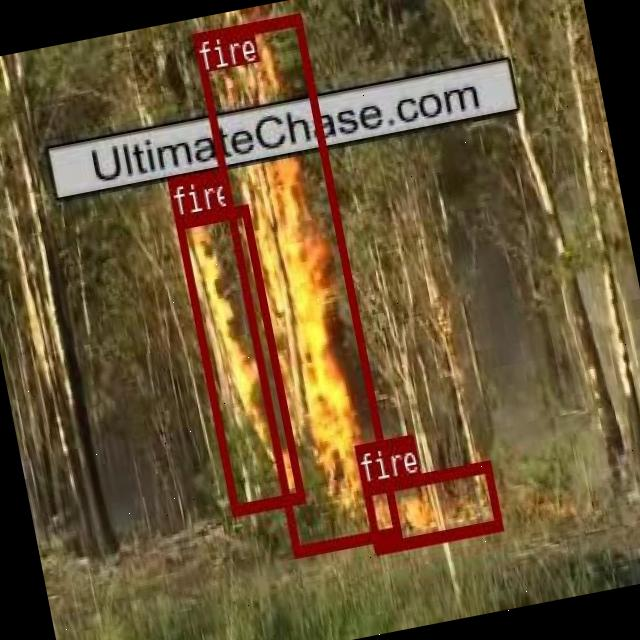fire: (192, 13, 400, 554), (175, 204, 303, 514), (362, 458, 502, 552)
